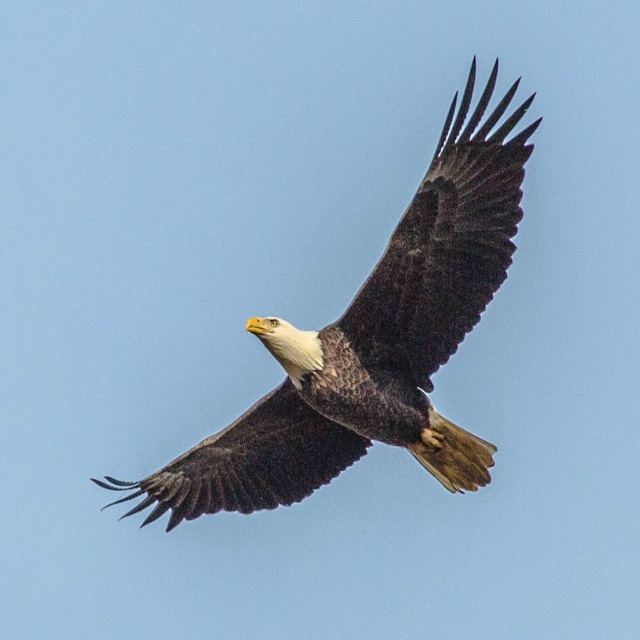Eagle: (91, 50, 548, 536)
